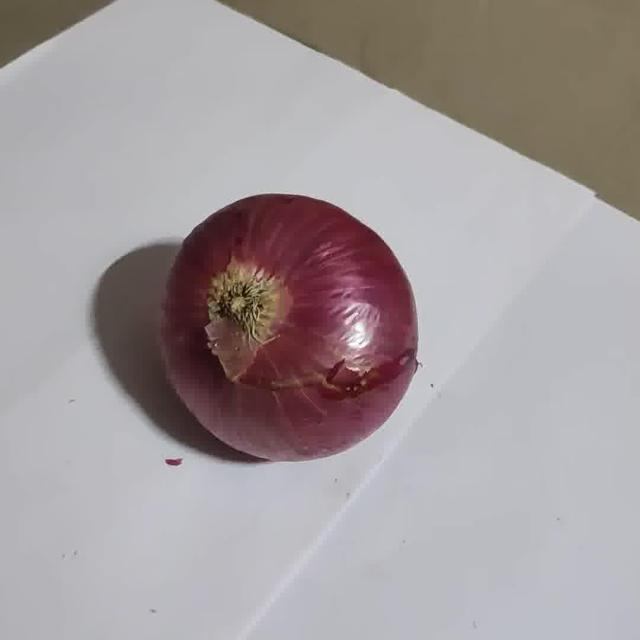Onion: (162, 194, 417, 461)
